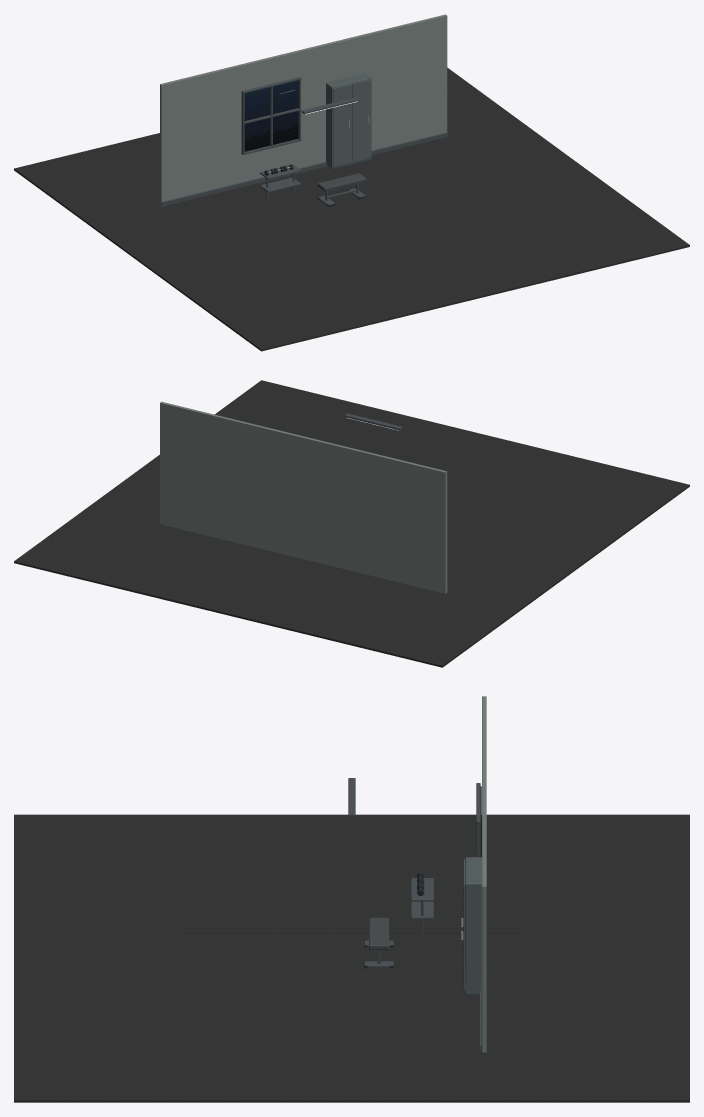
File: gym-v4-room.glb
The picture shows the model from 3 angles, top to bottom: view 1: azimuth 30°, elevation 25°; view 2: azimuth 150°, elevation 25°; view 3: azimuth 270°, elevation 25°; orthographic projection. The views are drawn at different scales.
Parts seen in each view (by area): view 1: GymFloor, WarmNeutralWall, RecessedEveningWindow, LockerDoor.001, LockerDoor, WallSkirting, LockerCabinet; view 2: GymFloor, WarmNeutralWall; view 3: GymFloor, LockerCabinet, WarmNeutralWall, BenchCushion.
Boxes of the visible parts, x1,y1,x2,y2 form: GymFloor: (14, 67, 689, 351); WarmNeutralWall: (160, 14, 447, 206); RecessedEveningWindow: (244, 80, 298, 151); LockerDoor.001: (352, 79, 371, 161); LockerDoor: (333, 84, 351, 165); WallSkirting: (161, 132, 447, 206); LockerCabinet: (326, 73, 371, 167); GymFloor: (14, 380, 689, 667); WarmNeutralWall: (160, 401, 447, 593); GymFloor: (14, 814, 689, 1102); LockerCabinet: (465, 857, 481, 994); WarmNeutralWall: (482, 696, 486, 1052); BenchCushion: (369, 917, 389, 949).
Bounding box in the file's own units: 12 × 3.3 × 12.
Materials: 11 (2 with a texture image).
